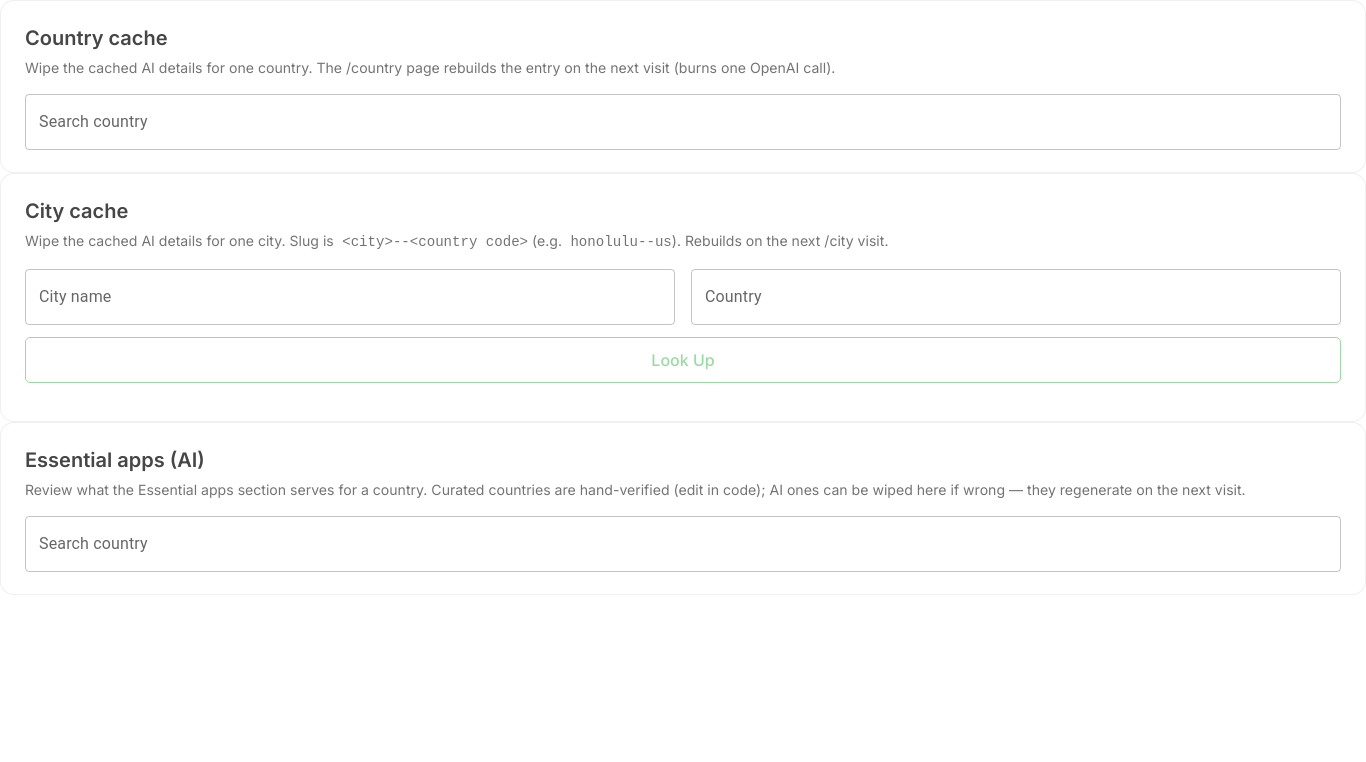
Test: CacheCard — country section › searches, selects a country, shows status, and clears the cache
Type "Japan" into the field with placeholder "Type a country name…" below "Country cache" at (683, 122), box x1=25 y1=94 x2=1341 y2=150
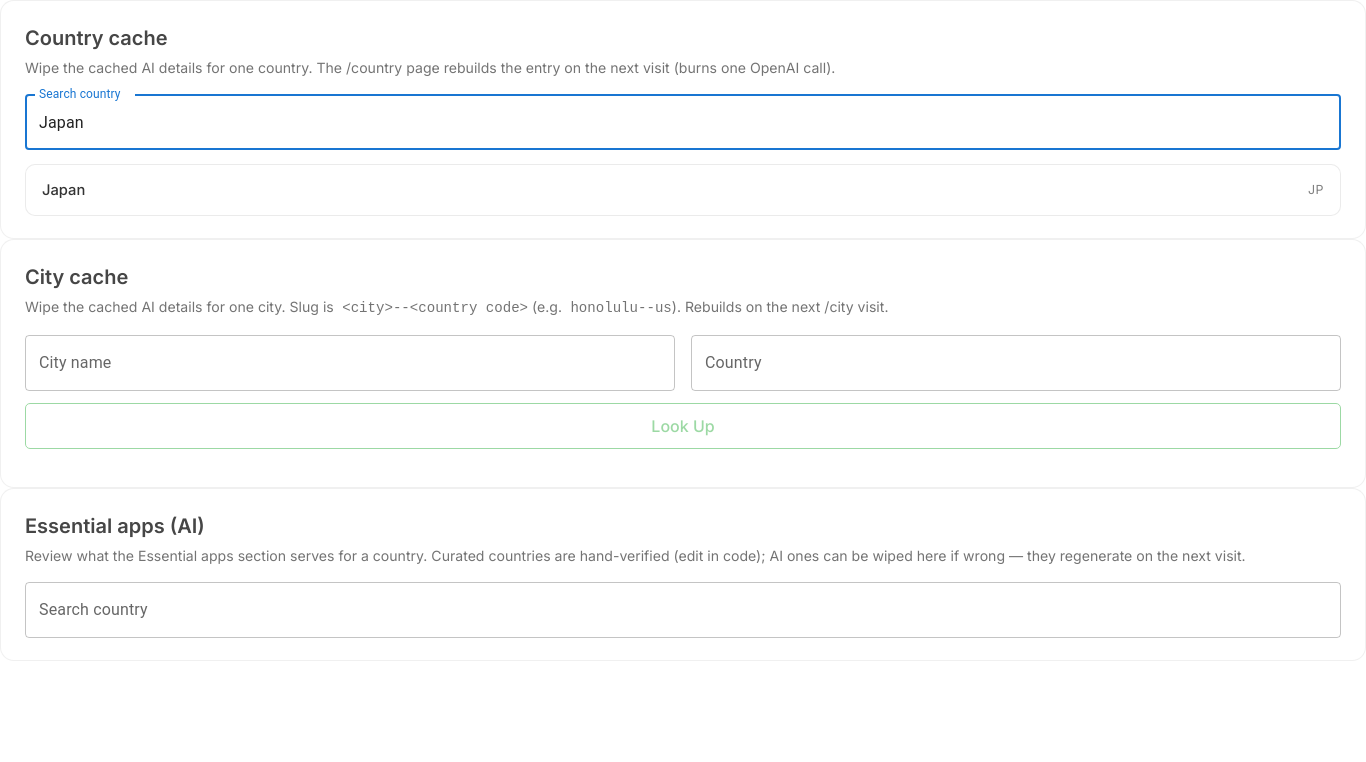
Click the button "Japan JP" at (64, 190), box x1=32 y1=171 x2=1334 y2=209
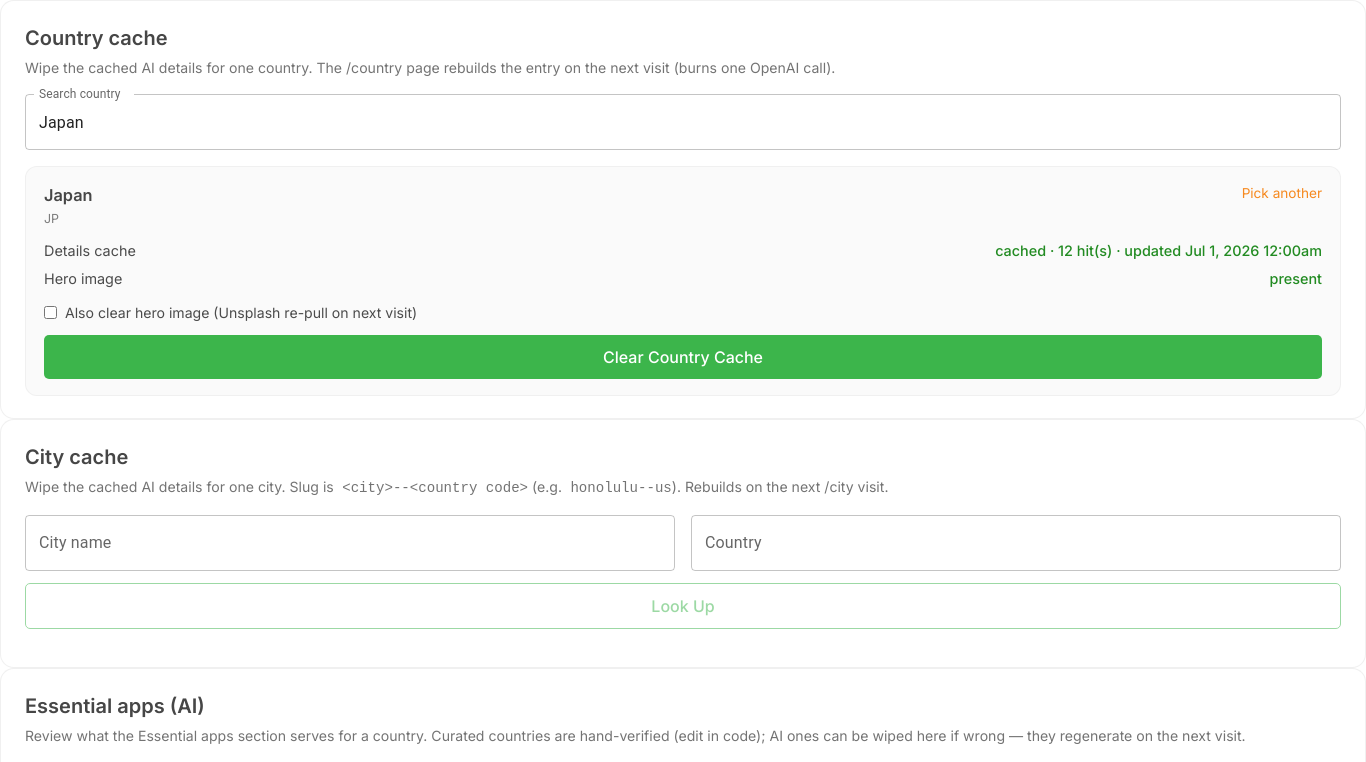
Check: the text "cached · 12 hit(s) · updated Jul 1, 2026 12:00am" is shown, box x1=995 y1=240 x2=1322 y2=262
Click the button "Clear country cache" at (683, 357), box x1=44 y1=335 x2=1322 y2=379
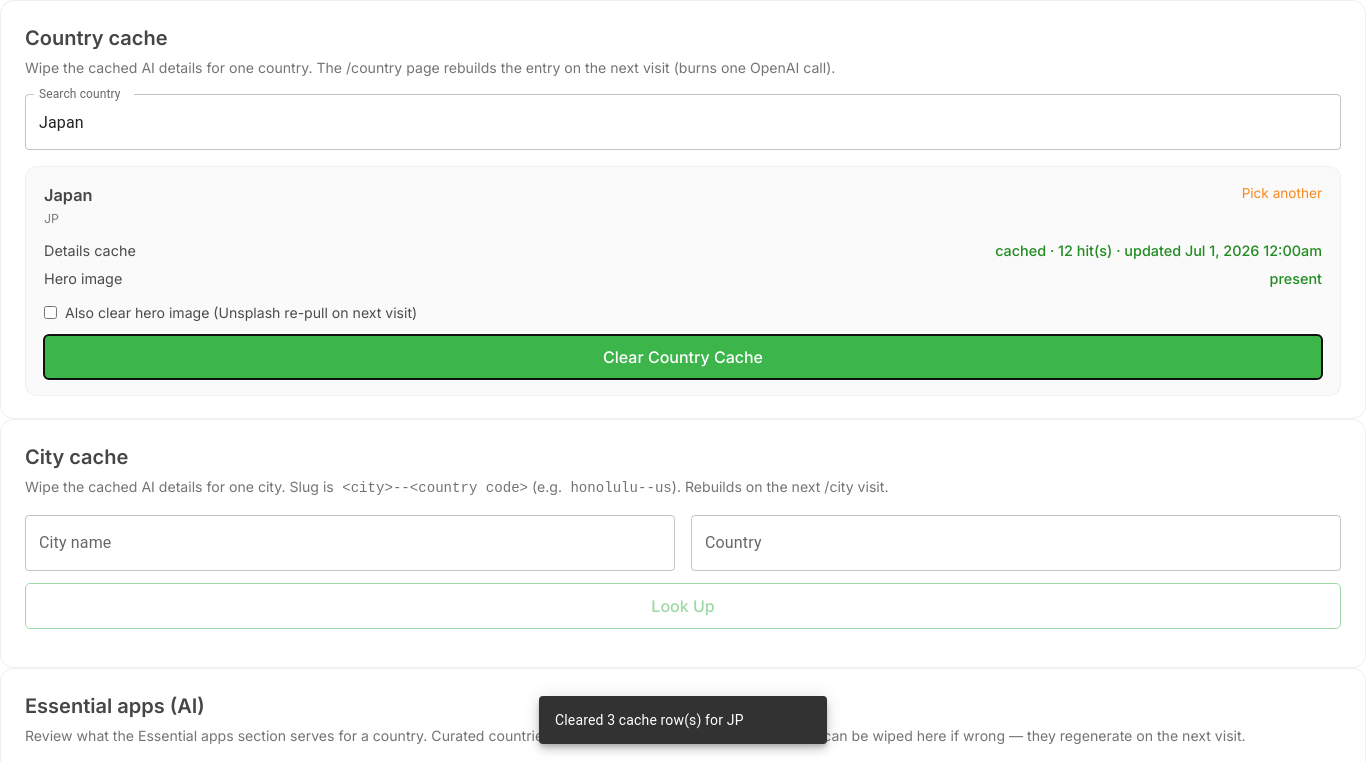
Check: the text "Cleared 3 cache row(s) for JP" is shown, box x1=555 y1=712 x2=744 y2=728
